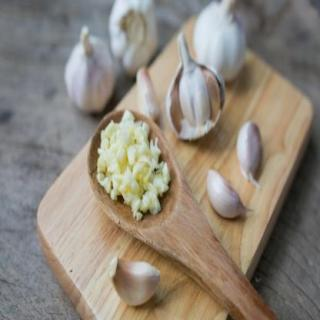Bawang Putih: (109, 256, 161, 308), (207, 169, 250, 220)
